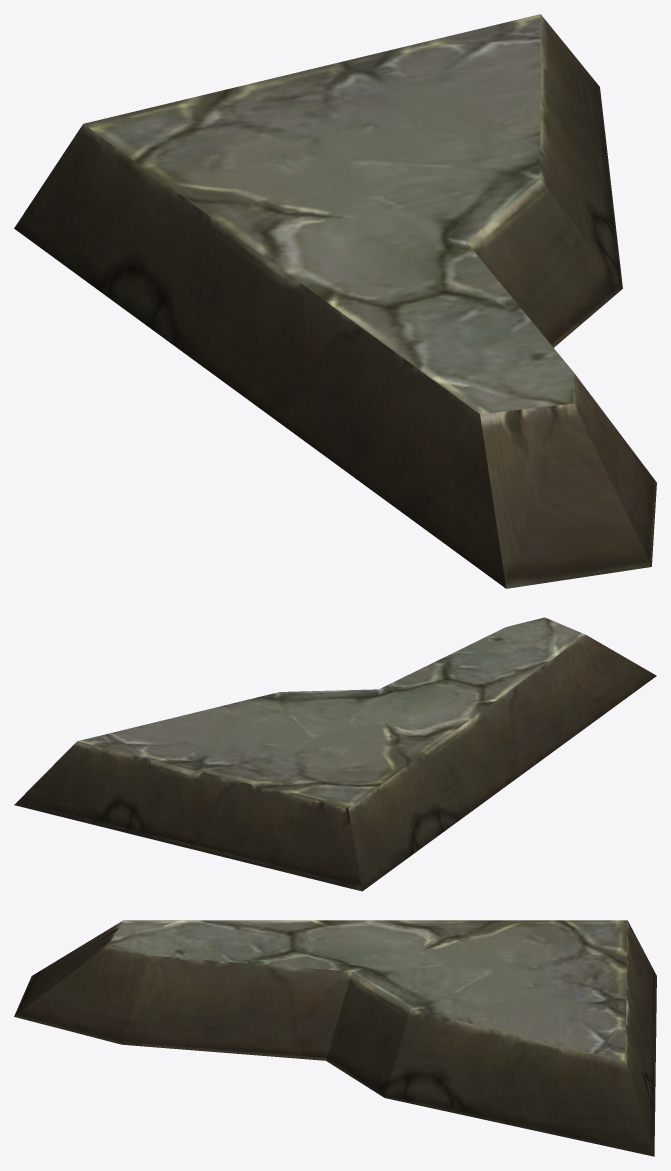
File: F_dizhuan012.fbx
The picture shows the model from 3 angles, top to bottom: view 1: azimuth 30°, elevation 25°; view 2: azimuth 150°, elevation 25°; view 3: azimuth 270°, elevation 25°; orthographic projection. The views are drawn at different scales.
Parts seen in each view (by area): view 1: F_dizhuan012; view 2: F_dizhuan012; view 3: F_dizhuan012.
Part boxes in pixels (left/top/right/bottom): F_dizhuan012: left=14, top=14, right=656, bottom=588; F_dizhuan012: left=14, top=617, right=656, bottom=891; F_dizhuan012: left=14, top=920, right=656, bottom=1156.
Size of the model in its own units: 73.75 by 13.31 by 111.
